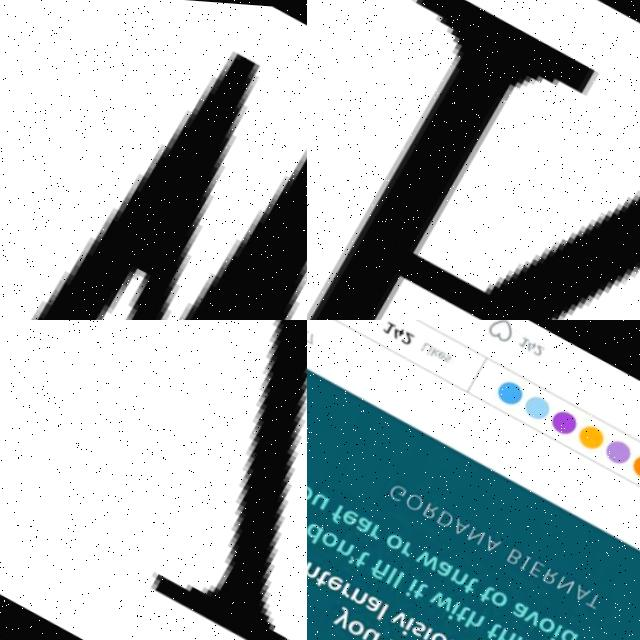1: (380, 320, 397, 331), (518, 329, 530, 342), (307, 323, 310, 336)
2: (401, 325, 416, 340), (534, 336, 545, 349)
4: (391, 320, 406, 336), (525, 332, 538, 345)
7: (307, 327, 317, 340)
J: (0, 320, 307, 640)
R: (307, 0, 640, 320)
W: (0, 0, 307, 320)
